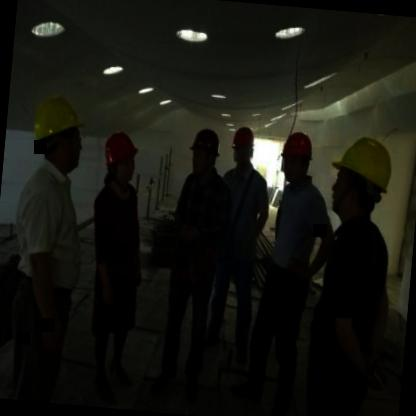helmet: (322, 130, 398, 223), (30, 92, 91, 180), (99, 128, 144, 190), (274, 127, 317, 189), (184, 122, 224, 180), (228, 125, 258, 170)
